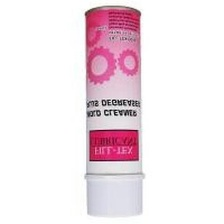aerosol_cans: (79, 2, 147, 220)
